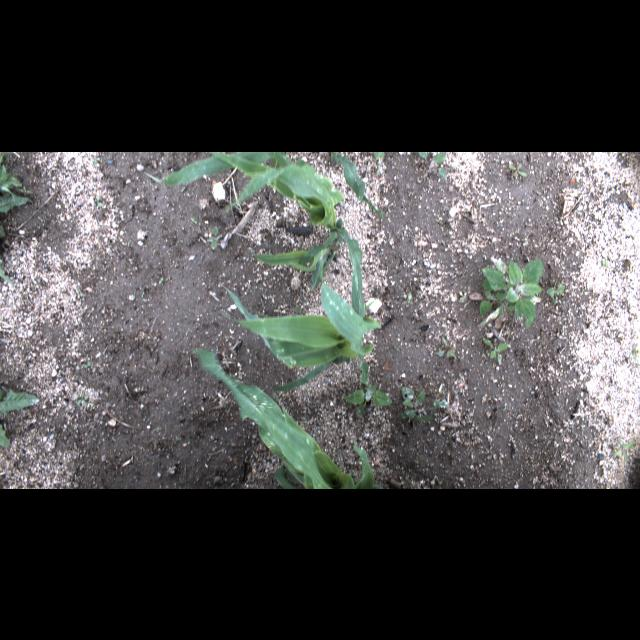crop: (144, 152, 366, 312), (190, 345, 384, 487), (215, 282, 382, 391), (328, 151, 379, 215)
weed: (477, 256, 548, 328), (1, 151, 36, 237), (1, 387, 40, 451), (398, 386, 452, 422), (343, 384, 393, 416), (416, 152, 448, 178), (479, 336, 511, 362), (437, 335, 458, 359), (0, 258, 16, 288), (614, 438, 634, 462), (545, 283, 565, 303), (508, 160, 528, 180), (370, 152, 386, 176), (208, 226, 222, 248), (71, 392, 89, 404), (629, 336, 639, 356), (402, 290, 414, 304), (294, 298, 306, 312), (103, 401, 113, 417), (17, 186, 33, 194), (82, 358, 94, 368), (600, 256, 610, 268), (347, 467, 358, 477), (96, 195, 104, 208), (90, 156, 104, 162), (155, 277, 165, 285), (189, 216, 199, 224), (460, 292, 468, 302), (180, 184, 188, 193), (403, 480, 415, 486), (437, 389, 445, 395)
